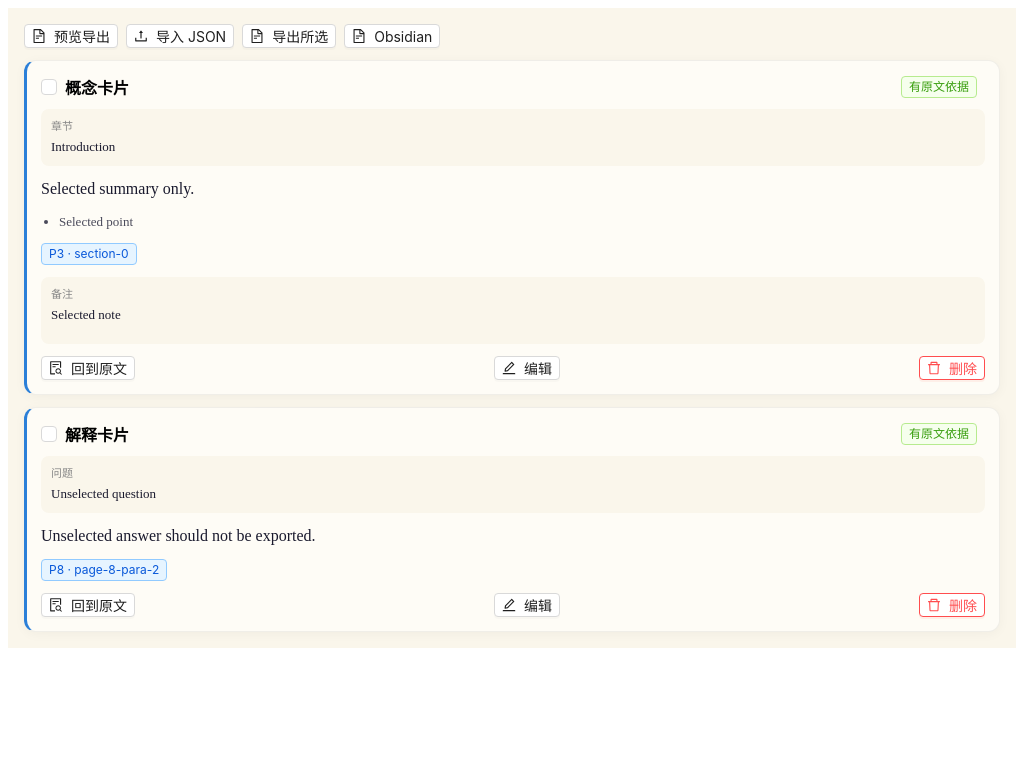
Test case: ArtifactPanel › previews Markdown for selected VibeCards only with source references
Click the checkbox named "选择卡片 Concept Card：Introduction" at (49, 87), box [41,76,57,98]
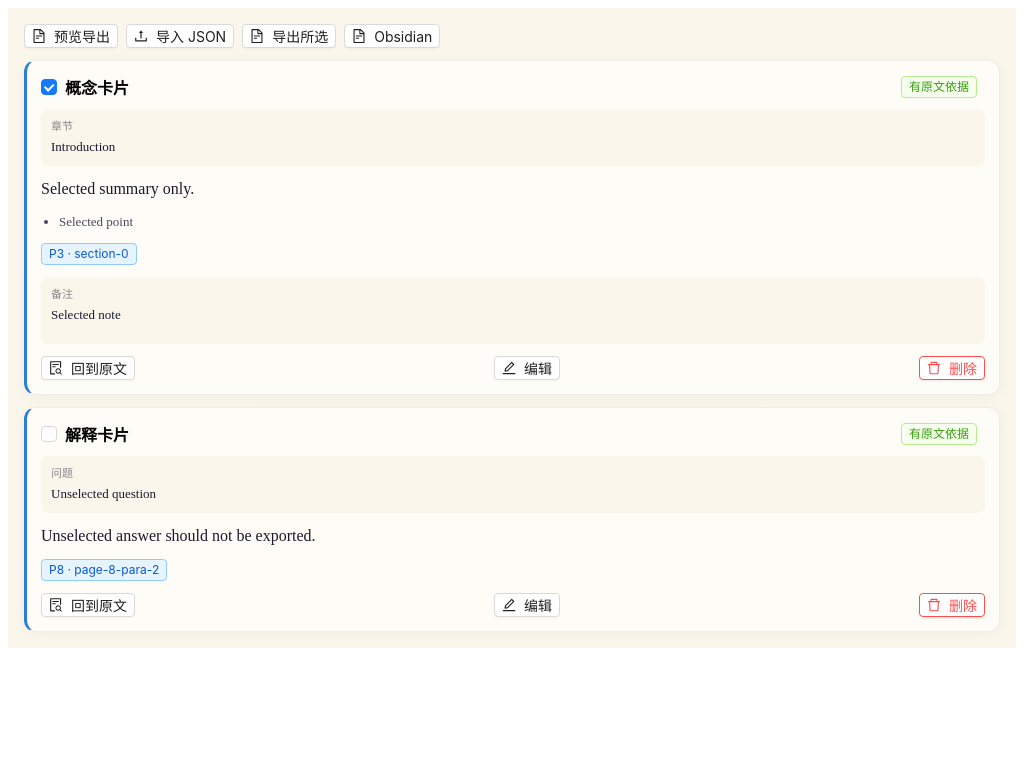
Click the button "导出所选" at (289, 36), box [242,24,336,48]
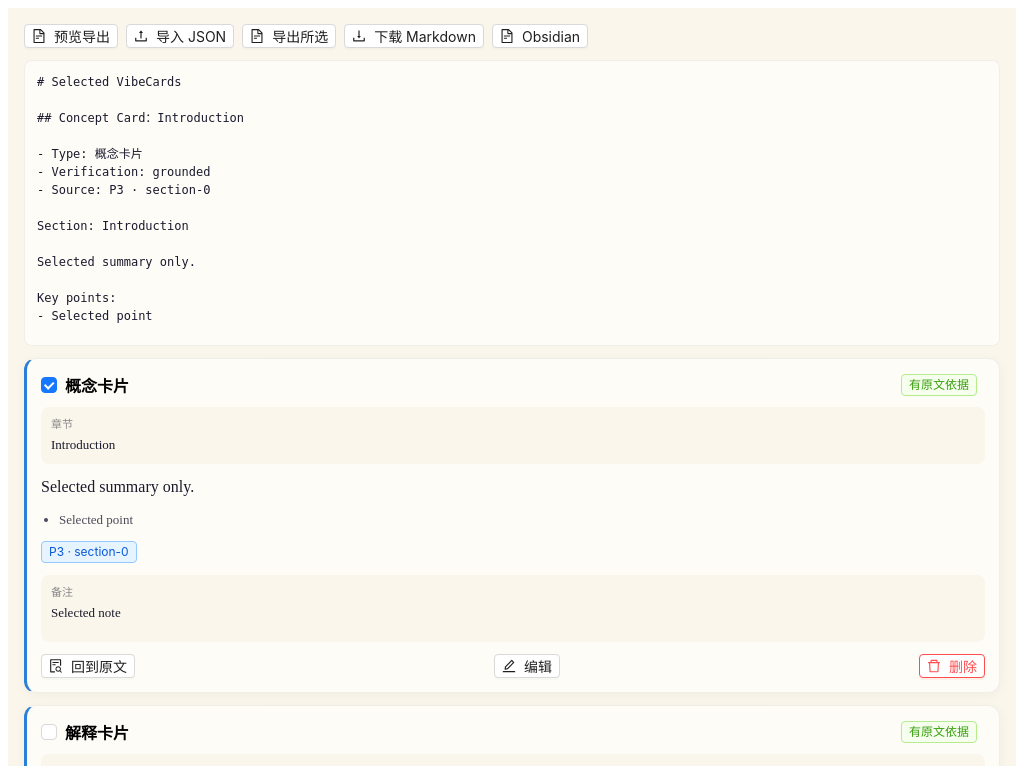
Expected: the text "# Selected VibeCards" shows "Selected summary only.", [37,75,244,359]
Expected: the text "# Selected VibeCards" shows "Selected point", [37,75,244,359]
Expected: the text "# Selected VibeCards" shows "Selected note", [37,75,244,359]
